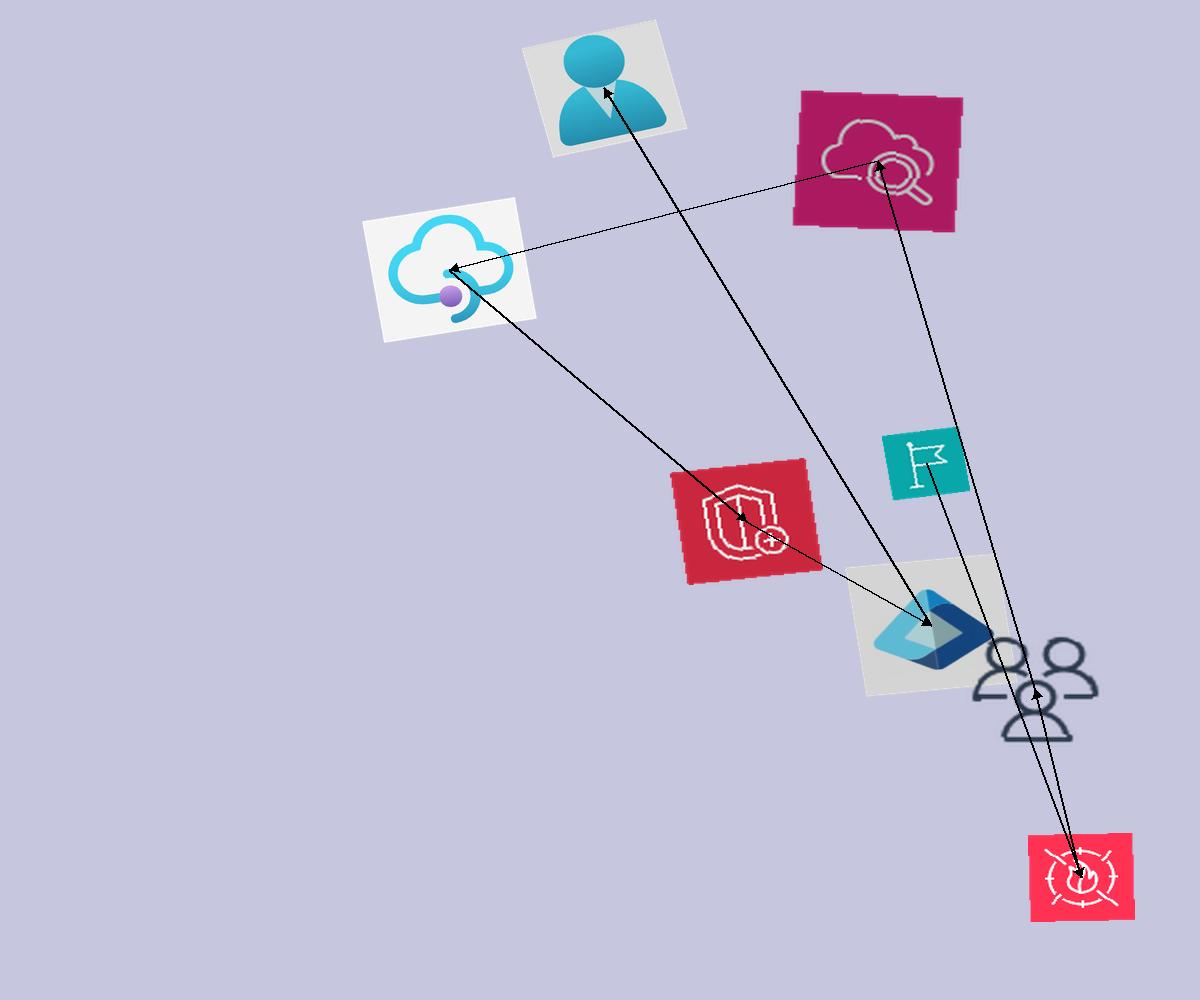AWS-CloudWatch: (791, 89, 965, 234)
AWS-Region: (881, 426, 971, 501)
AWS-Res_Users: (964, 630, 1107, 749)
AWS-Shield: (670, 458, 823, 585)
AWS-WAF: (1028, 833, 1135, 922)
Azure_api_gateway: (362, 197, 537, 343)
Azure_microsoft_entra: (845, 553, 1018, 697)
Azure_users: (521, 19, 688, 158)
